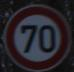Speed Limit -70-: (0, 0, 73, 71)
